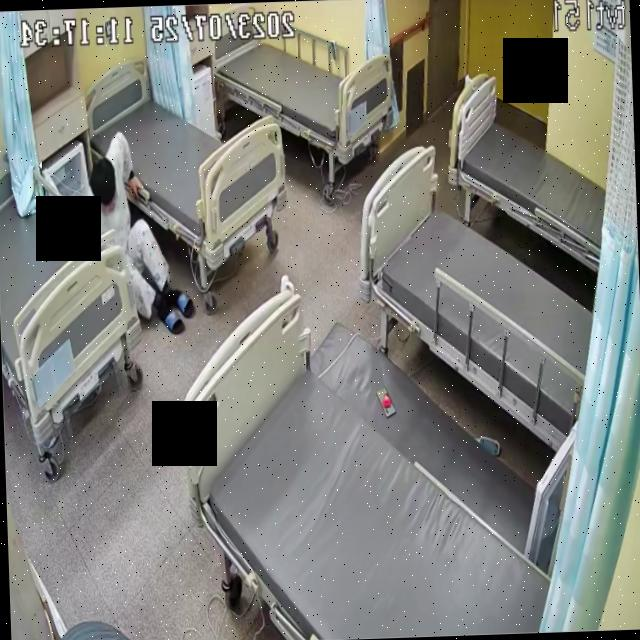bed: (186, 290, 552, 640), (358, 145, 602, 446), (0, 148, 140, 446), (86, 62, 288, 250), (445, 69, 610, 271), (212, 15, 390, 166)
fall: (70, 138, 194, 337)
patient: (68, 134, 194, 334)
